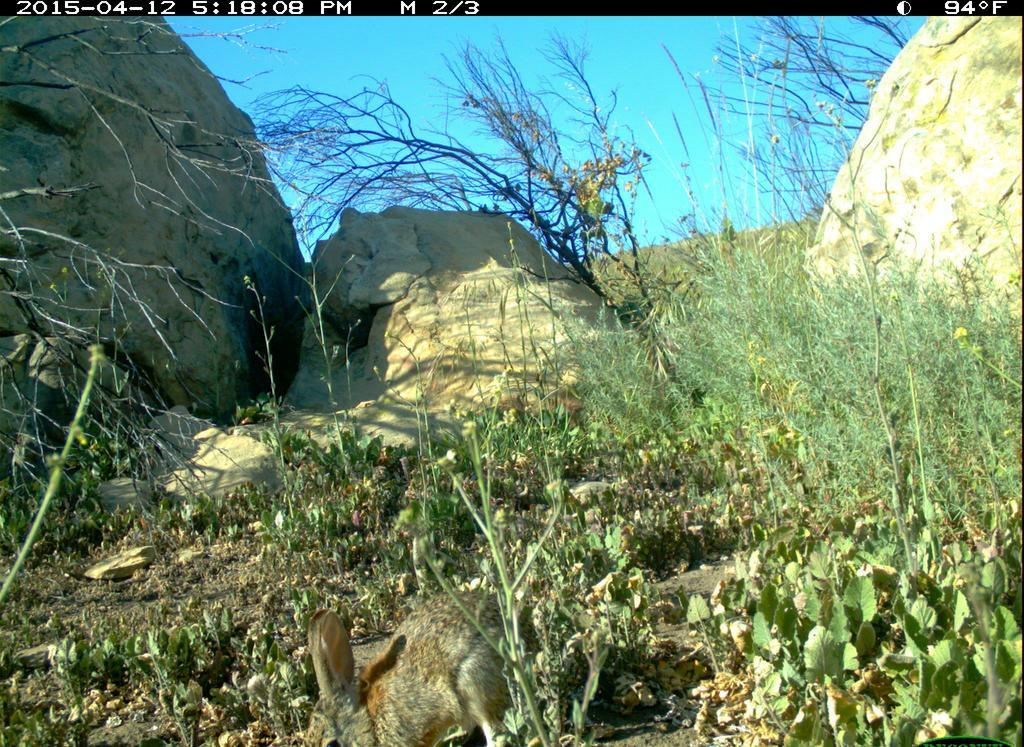rabbit: (289, 575, 545, 747)
